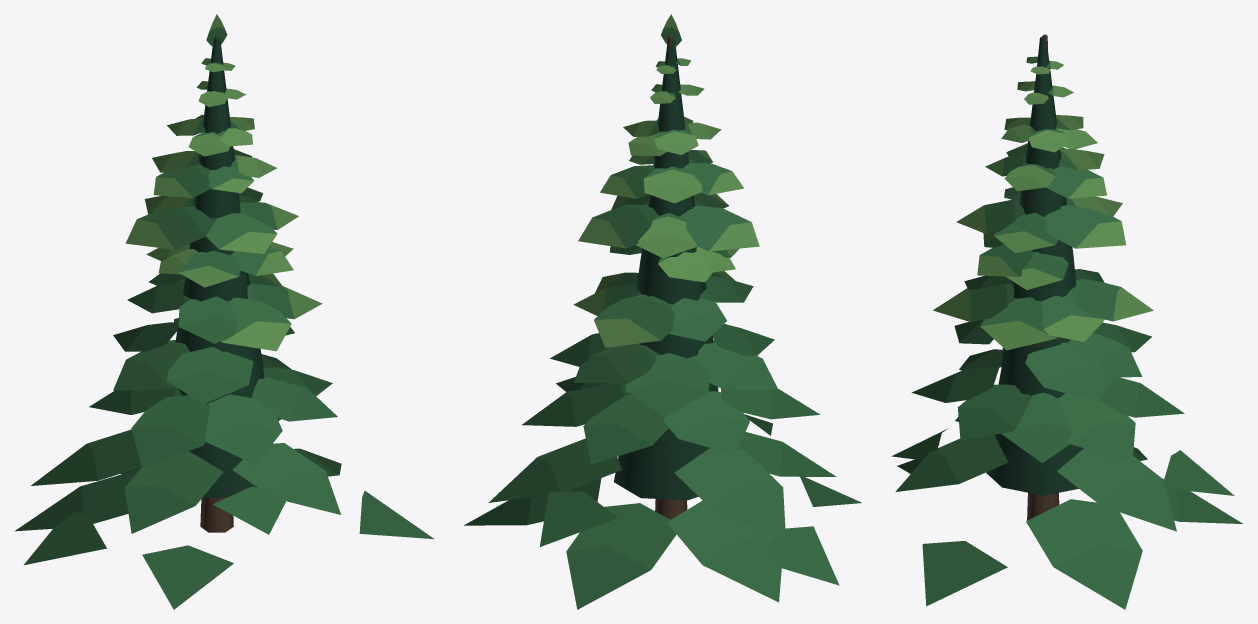
File: SpruceC_LOD.glb
3 views of the same model, side by side, from view 1: azimuth 30°, elevation 25°; view 2: azimuth 150°, elevation 25°; view 3: azimuth 270°, elevation 25° (orthographic).
Parts seen in each view (by area): view 1: SpruceC_LOD.needleMid, SpruceC_LOD.needleLight, SpruceC_LOD.needleDark, SpruceC_LOD.bark; view 2: SpruceC_LOD.needleMid, SpruceC_LOD.needleLight, SpruceC_LOD.needleDark, SpruceC_LOD.bark; view 3: SpruceC_LOD.needleMid, SpruceC_LOD.needleLight, SpruceC_LOD.needleDark, SpruceC_LOD.bark.
Boxes of the visible parts, x1,y1,x2,y2 form: SpruceC_LOD.needleMid: [15, 27, 434, 609]; SpruceC_LOD.needleLight: [125, 14, 322, 351]; SpruceC_LOD.needleDark: [175, 37, 264, 498]; SpruceC_LOD.bark: [200, 35, 233, 532]; SpruceC_LOD.needleMid: [464, 27, 861, 609]; SpruceC_LOD.needleLight: [573, 14, 759, 347]; SpruceC_LOD.needleDark: [614, 38, 718, 500]; SpruceC_LOD.bark: [655, 35, 687, 519]; SpruceC_LOD.needleMid: [891, 58, 1242, 609]; SpruceC_LOD.needleLight: [933, 56, 1153, 350]; SpruceC_LOD.needleDark: [986, 36, 1083, 495]; SpruceC_LOD.bark: [1027, 34, 1059, 520].
Size of the model in its own units: 22.79 by 32.69 by 20.26.
